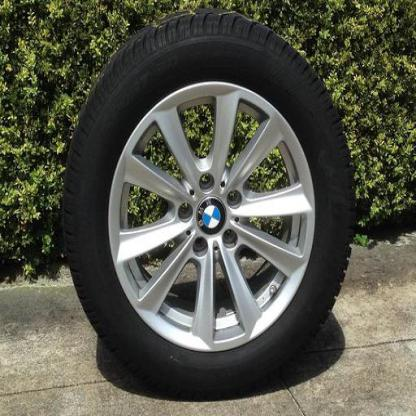Tire: (58, 8, 359, 398)
